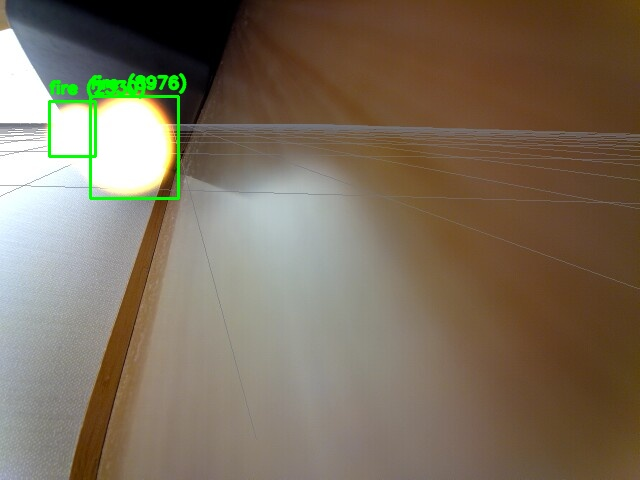fire: (90, 96, 178, 198), (49, 101, 95, 156)
